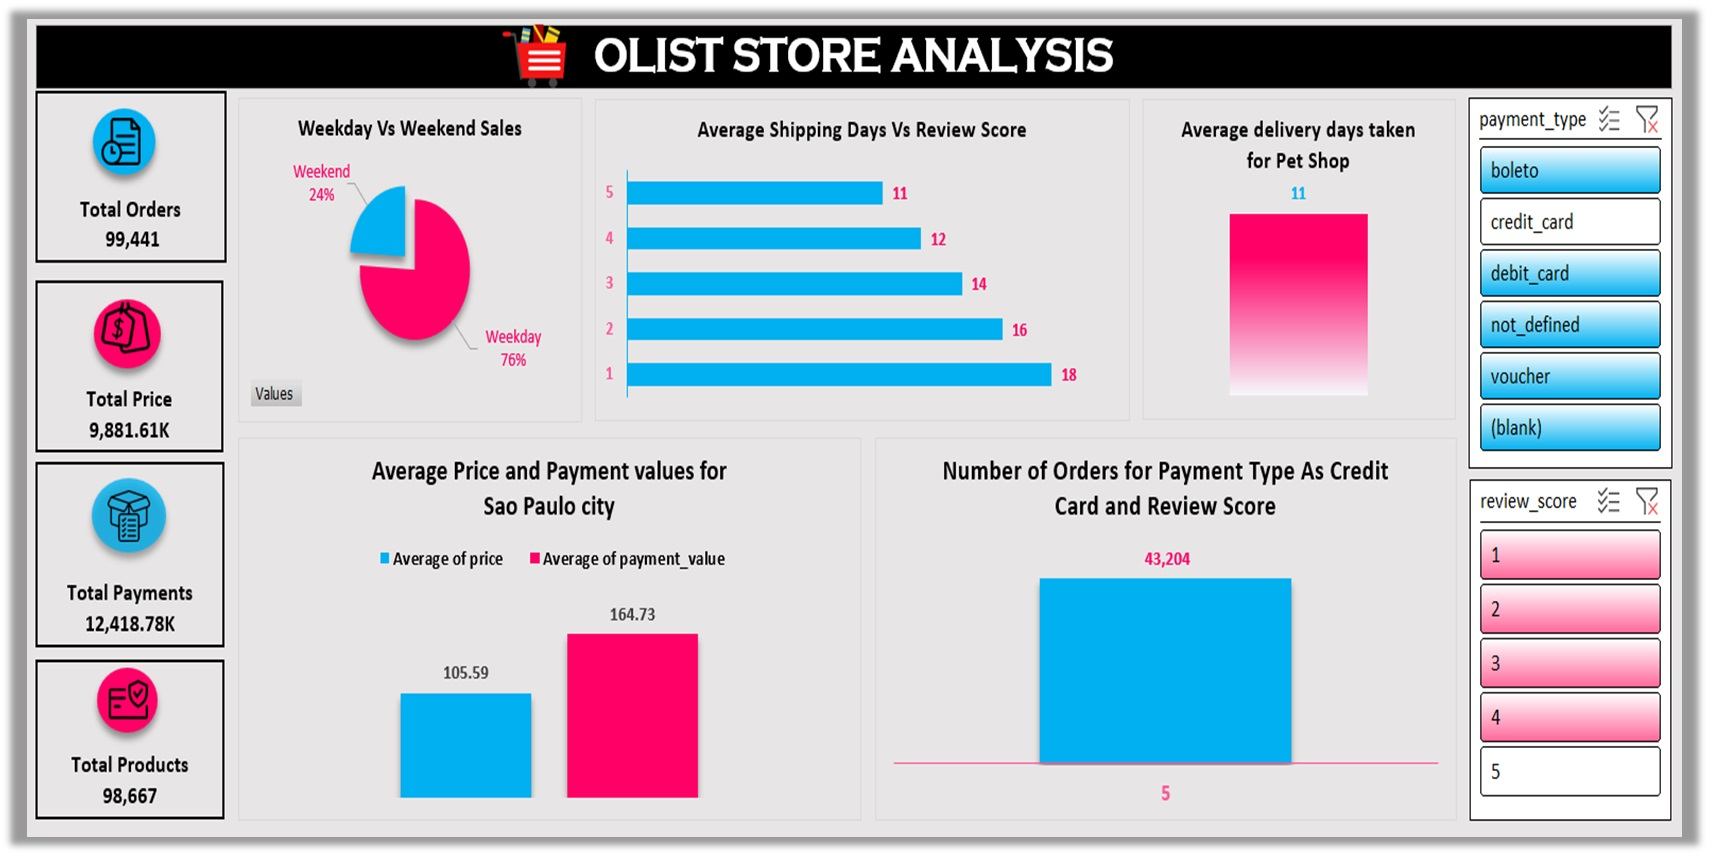

The dashboard page shown, as its layout file describes it:
{"tool":"tableau","page":{"name":"Dashboard 1","canvas":[1500,825],"ordinal":0},"visuals":[{"type":"image","param":"Image/logo.png","box":[8,8,177,80]},{"type":"blank","box":[185,8,612,80]},{"type":"filter","title":"KPI 2","param":"[federated.1v7ubre016np7q180fmtm0u4v7i0].[none:payment_type:nk]","box":[797,8,280,80]},{"type":"filter","title":"KPI 1","param":"[federated.1v7ubre016np7q180fmtm0u4v7i0].[yr:order_purchase_timestamp:ok]","box":[1077,8,147,80]},{"type":"filter","title":"KPI 5","param":"[federated.1v7ubre016np7q180fmtm0u4v7i0].[none:customer_city:nk]","box":[1224,8,268,80]},{"type":"text","box":[155,14,584,72]},{"type":"dashboard-object","box":[738,16,55,62]},{"type":"worksheet","title":"Sheet 7","mark":"Automatic","box":[8,88,177,182.2]},{"type":"worksheet","title":"KPI 1","mark":"Pie","rows":["Calculation_2102618134568779776","Calculation_2102618134568779776"],"box":[185,88,431,377]},{"type":"worksheet","title":"Sheet 6","mark":"Automatic","box":[616,88,406,377]},{"type":"worksheet","title":"KPI 4","mark":"Bar","cols":["order_purchase_timestamp"],"box":[1022,88,470,377]},{"type":"worksheet","title":"Sheet 7 (2)","mark":"Automatic","box":[8,270.2,177,182.2]},{"type":"worksheet","title":"Sheet 7 (3)","mark":"Automatic","box":[8,452.5,177,182.2]},{"type":"worksheet","title":"KPI 2","mark":"Bar","rows":["order_id"],"cols":["review_score"],"box":[185,465,521,352]},{"type":"worksheet","title":"KPI 3","mark":"Automatic","box":[706,465,266.4,352]},{"type":"worksheet","title":"KPI 5","mark":"Automatic","rows":["number_of_days"],"cols":["review_score"],"box":[972.4,465,519.6,352]},{"type":"worksheet","title":"Sheet 7 (4)","mark":"Automatic","box":[8,634.7,177,182.2]}]}

Visuals, with their boxes on the page's 1500x825 design canvas (x1, y1, x2, y2). These are canvas units, not pixel positions in the 1709x856 screenshot, which may show the page scaled, cropped or inside an application window:
image: (8, 8, 185, 88)
blank: (185, 8, 797, 88)
"KPI 2" filter: (797, 8, 1077, 88)
"KPI 1" filter: (1077, 8, 1224, 88)
"KPI 5" filter: (1224, 8, 1492, 88)
text: (155, 14, 739, 86)
dashboard-object: (738, 16, 793, 78)
"Sheet 7" worksheet: (8, 88, 185, 270)
"KPI 1" worksheet (Pie marks): (185, 88, 616, 465)
"Sheet 6" worksheet: (616, 88, 1022, 465)
"KPI 4" worksheet (Bar marks): (1022, 88, 1492, 465)
"Sheet 7 (2)" worksheet: (8, 270, 185, 452)
"Sheet 7 (3)" worksheet: (8, 452, 185, 635)
"KPI 2" worksheet (Bar marks): (185, 465, 706, 817)
"KPI 3" worksheet: (706, 465, 972, 817)
"KPI 5" worksheet: (972, 465, 1492, 817)
"Sheet 7 (4)" worksheet: (8, 635, 185, 817)
